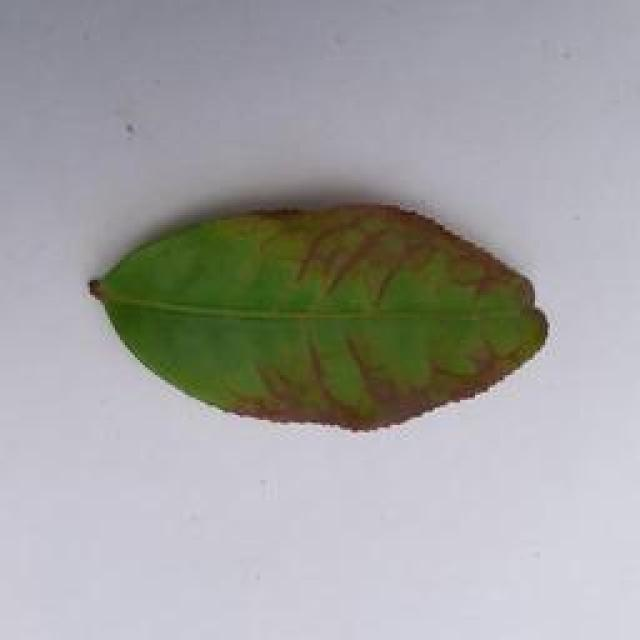Red Leaf Spot: (68, 194, 560, 449)
